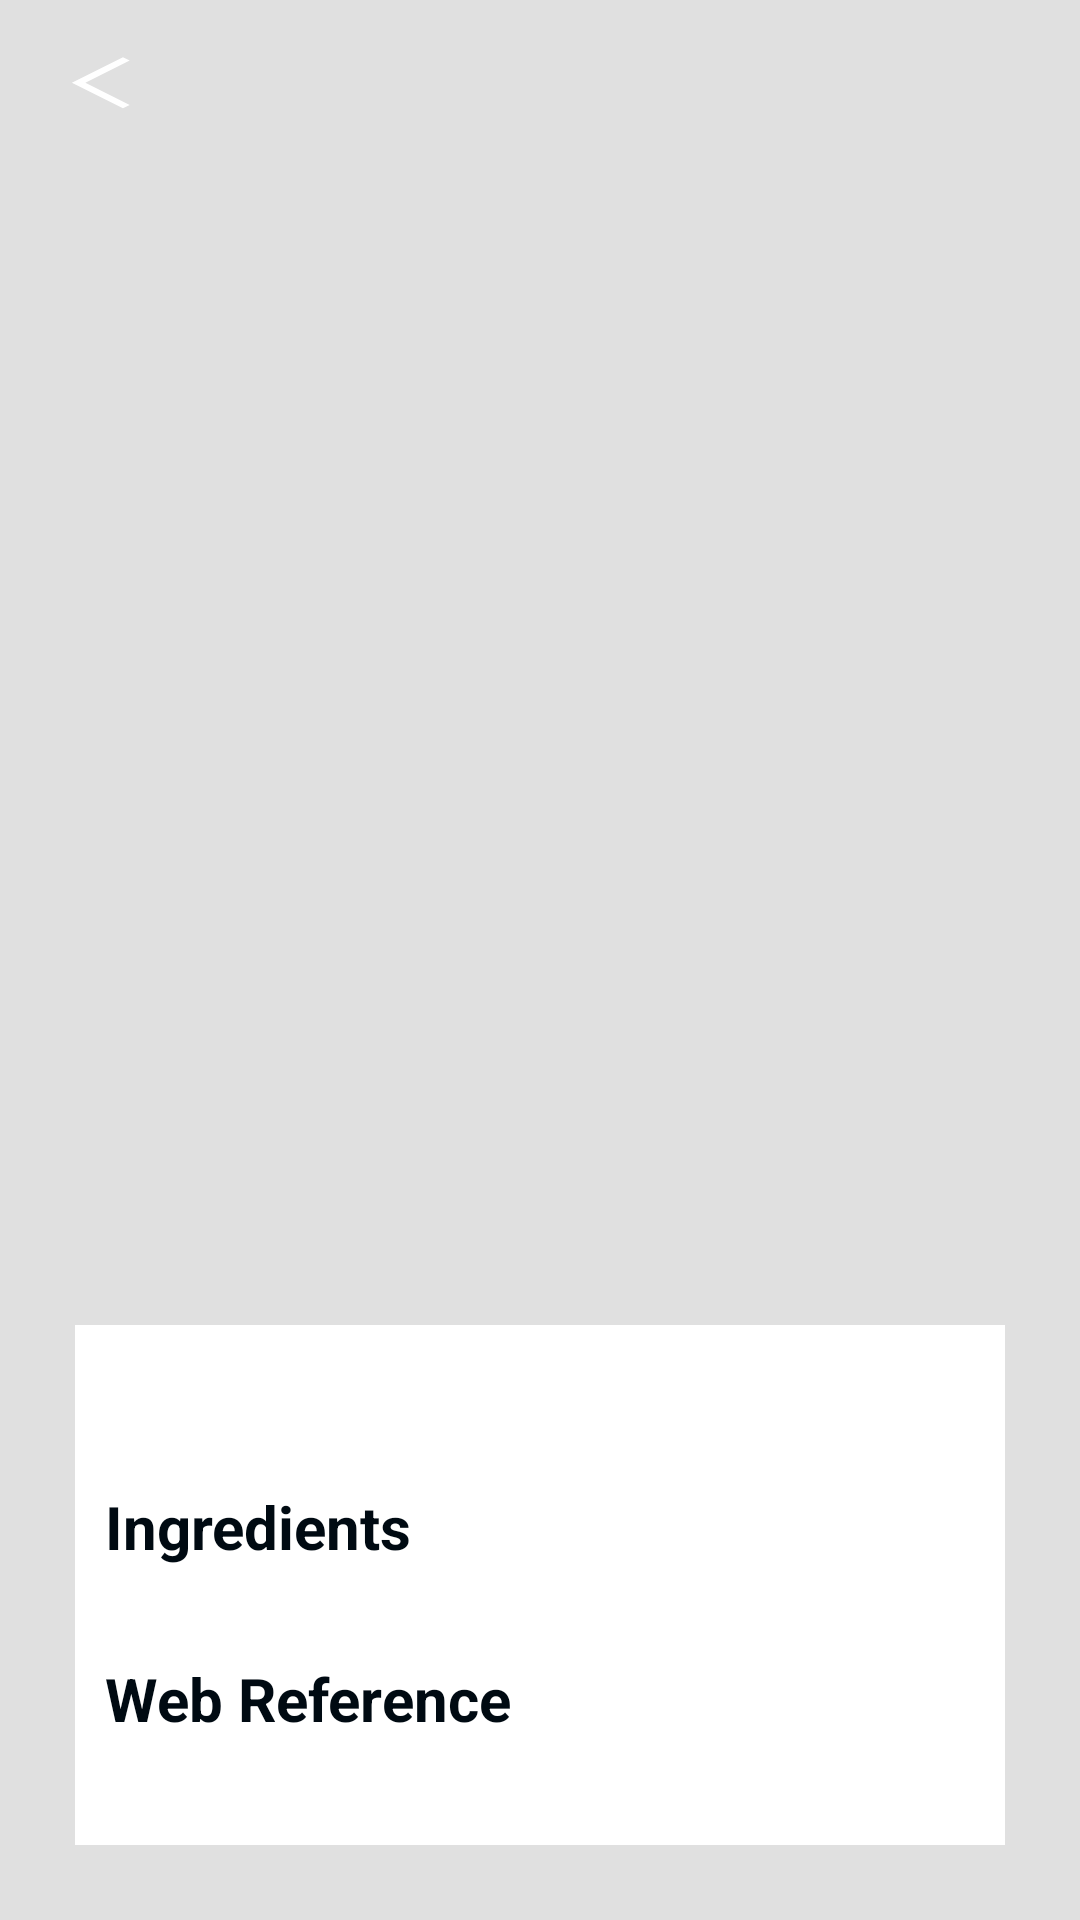

Named icons in this screenshot (1080×1920) and their bounding boxes, (x1, y1, x2, y2):
back: (73, 58, 129, 108)
